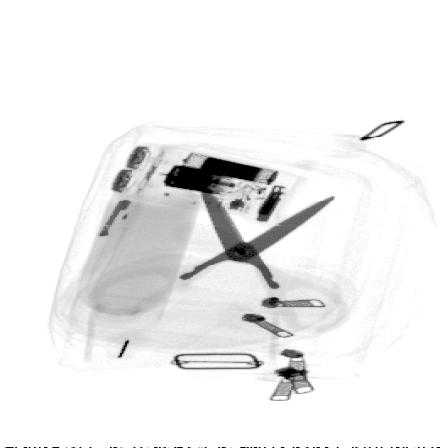Scissors: (81, 172, 356, 337)
